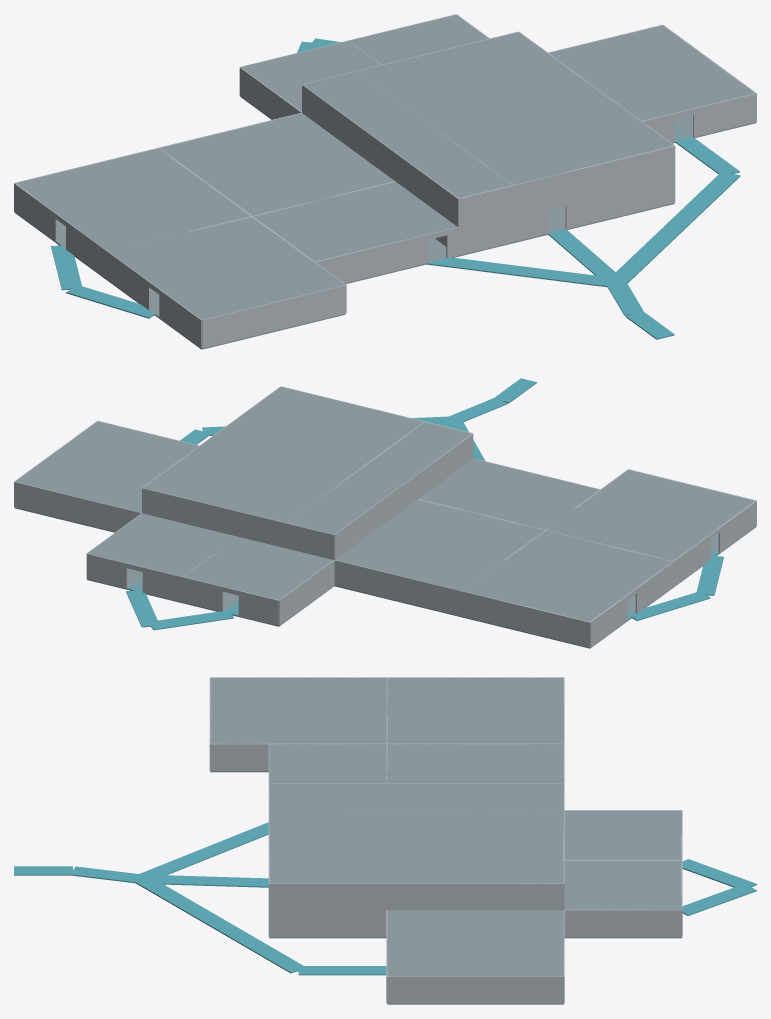
The model's file is furnished.glb.
3 renders of one model, top to bottom at view 1: azimuth 30°, elevation 25°; view 2: azimuth 150°, elevation 25°; view 3: azimuth 270°, elevation 25°, orthographic. The views are drawn at different scales.
Parts seen in each view (by area): view 1: Ceiling cap processing, Ceiling cap bunk, Ceiling cap mess, Ceiling cap boiler, Ceiling cap cold, Ceiling cap wash, Wall processing S.001, Ceiling cap gallery, Wall processing S, Wall bunk S, Ceiling cap office, Ceiling cap stores (+23 smaller); view 2: Ceiling cap processing, Ceiling cap boiler, Ceiling cap mess, Ceiling cap bunk, Ceiling cap cold, Ceiling cap wash, Ceiling cap stores, Ceiling cap office, Wall mess N, Wall boiler N, Wall cold N, Wall processing W.001 (+23 smaller); view 3: Ceiling cap processing, Ceiling cap bunk, Ceiling cap cold, Ceiling cap mess, Wall processing E.001, Ceiling cap gallery, Ceiling cap boiler, Ceiling cap office, Ceiling cap stores, Wall cold E, Ceiling cap wash, Wall stores E (+10 smaller).
Boxes of the visible parts, left/top/right/bottom form: Ceiling cap processing: left=303, top=32, right=673, bottom=198; Ceiling cap bunk: left=108, top=217, right=345, bottom=319; Ceiling cap mess: left=16, top=148, right=250, bottom=251; Ceiling cap boiler: left=159, top=113, right=394, bottom=215; Ceiling cap cold: left=549, top=25, right=754, bottom=120; Ceiling cap wash: left=253, top=182, right=457, bottom=261; Wall processing S.001: left=565, top=146, right=674, bottom=229; Ceiling cap gallery: left=304, top=72, right=506, bottom=197; Wall processing S: left=458, top=177, right=548, bottom=255; Wall bunk S: left=201, top=285, right=346, bottom=348; Ceiling cap office: left=240, top=41, right=380, bottom=111; Ceiling cap stores: left=349, top=14, right=488, bottom=64; Ceiling cap processing: left=143, top=386, right=471, bottom=534; Ceiling cap boiler: left=335, top=499, right=544, bottom=590; Ceiling cap mess: left=463, top=530, right=672, bottom=621; Ceiling cap bunk: left=546, top=469, right=754, bottom=560; Ceiling cap cold: left=15, top=421, right=198, bottom=512; Ceiling cap wash: left=419, top=458, right=599, bottom=529; Ceiling cap stores: left=87, top=513, right=237, bottom=576; Ceiling cap office: left=183, top=537, right=333, bottom=599; Wall mess N: left=462, top=591, right=590, bottom=647; Wall boiler N: left=334, top=560, right=461, bottom=616; Wall cold N: left=14, top=482, right=141, bottom=531; Wall processing W.001: left=379, top=433, right=473, bottom=526; Ceiling cap processing: left=269, top=783, right=563, bottom=883; Ceiling cap bunk: left=210, top=677, right=387, bottom=743; Ceiling cap cold: left=387, top=910, right=563, bottom=976; Ceiling cap mess: left=387, top=677, right=563, bottom=743; Wall processing E.001: left=269, top=883, right=468, bottom=936; Ceiling cap gallery: left=269, top=783, right=563, bottom=808; Ceiling cap boiler: left=387, top=744, right=563, bottom=783; Ceiling cap office: left=564, top=810, right=681, bottom=859; Ceiling cap stores: left=564, top=860, right=681, bottom=909; Wall cold E: left=387, top=976, right=563, bottom=1003; Ceiling cap wash: left=269, top=744, right=387, bottom=783; Wall stores E: left=564, top=909, right=681, bottom=936.
Bounding box in the file's own units: 76.99 × 6.16 × 75.65.
